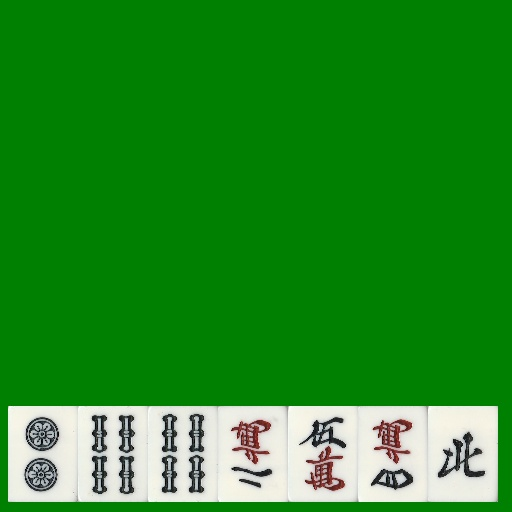2m: (218, 406, 288, 502)
2p: (8, 406, 78, 502)
4m: (358, 406, 428, 502)
4s: (78, 406, 148, 502), (148, 406, 218, 502)
5m: (288, 406, 358, 502)
north: (428, 406, 498, 502)
